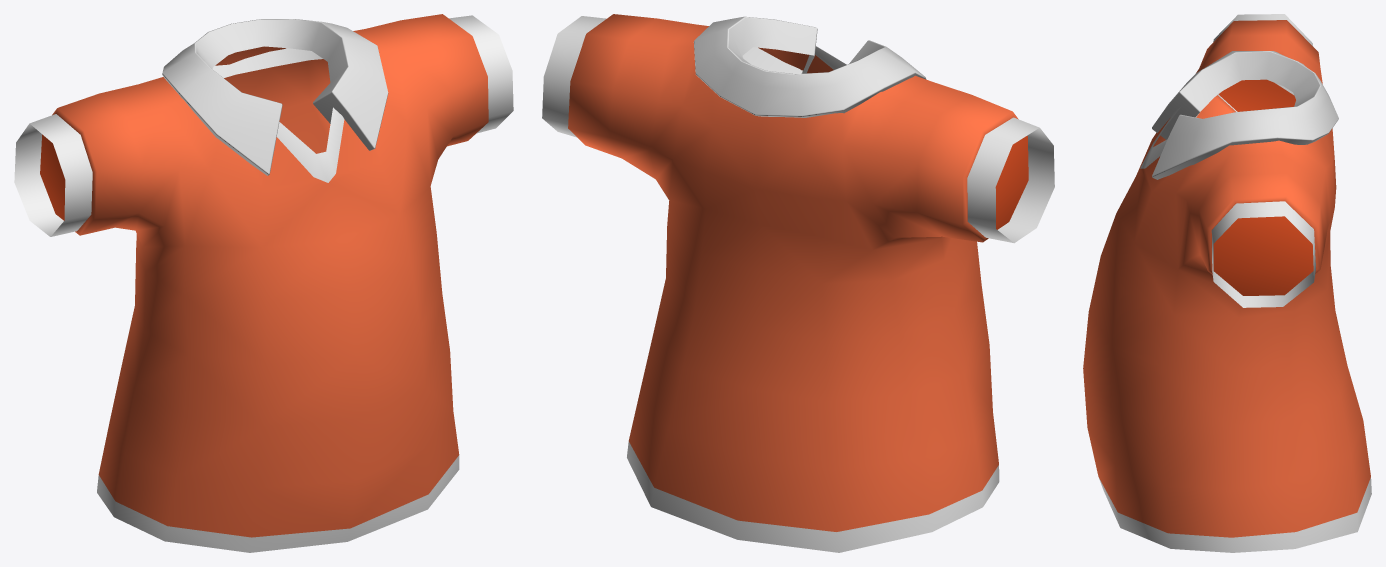
File: Outerwear_Orange_016.glb
3 renders of one model, left to right at view 1: azimuth 30°, elevation 25°; view 2: azimuth 150°, elevation 25°; view 3: azimuth 270°, elevation 25°, orthographic. The views are drawn at different scales.
Parts seen in each view (by area): view 1: Outerwear_Orange_016; view 2: Outerwear_Orange_016; view 3: Outerwear_Orange_016.
Part boxes in pixels (x1,y1,x2,y2): Outerwear_Orange_016: (14, 14, 513, 552); Outerwear_Orange_016: (542, 14, 1054, 552); Outerwear_Orange_016: (1083, 14, 1371, 552).
Size of the model in its own units: 0.6893 by 0.6487 by 0.41.
Materials: 1 (1 with a texture image).
